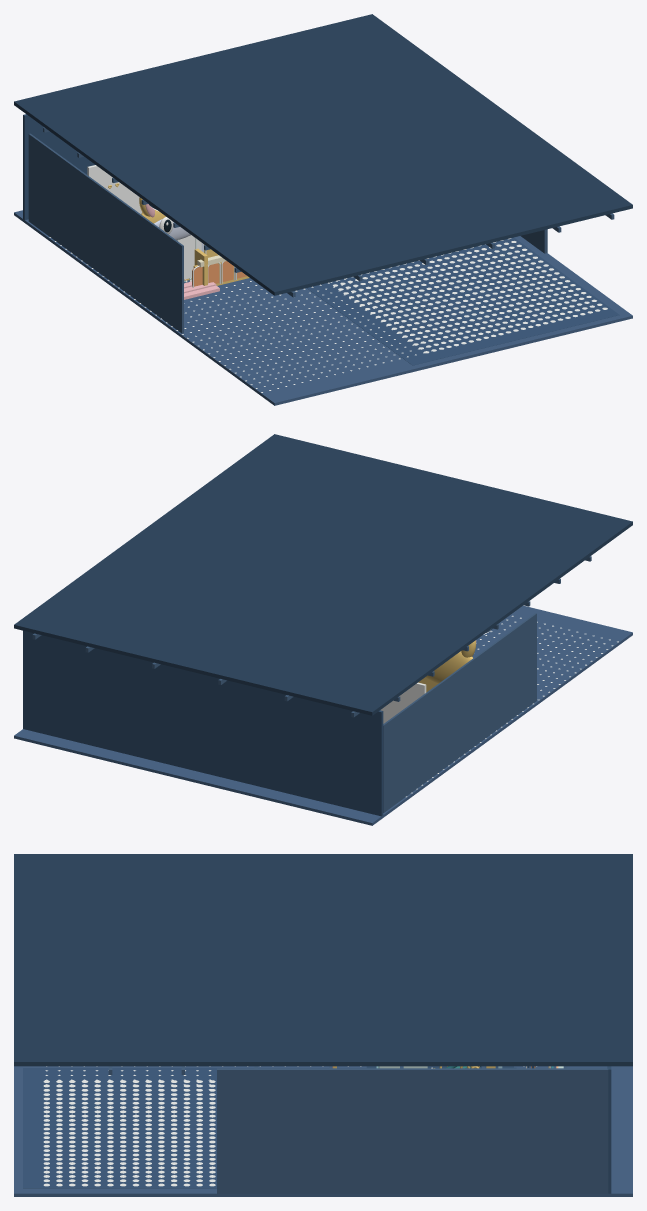
The model's file is playground.glb.
3 renders of one model, top to bottom at view 1: azimuth 30°, elevation 25°; view 2: azimuth 150°, elevation 25°; view 3: azimuth 270°, elevation 25°, orthographic. The views are drawn at different scales.
Visible parts, largest first — view 1: Ceiling deep industrial blue, Continuous matte indigo playground floor, Right flooring different blue zone, Left wall pale blue, Right carpet — 700 individually modeled circles, Back wall muted blue, Left carpet — 652 actual diamond faces, Ivory wall of rabbit play area; view 2: Ceiling deep industrial blue, Back wall muted blue, Left wall pale blue, Continuous matte indigo playground floor, Ivory wall of rabbit play area, Rabbit warm yellow head; view 3: Ceiling deep industrial blue, Far right wall, Right flooring different blue zone, Continuous matte indigo playground floor, Right carpet — 700 individually modeled circles, Back wall muted blue.
Part boxes in pixels (x1,y1,x2,y2): Ceiling deep industrial blue: (14, 14, 632, 295); Continuous matte indigo playground floor: (14, 210, 632, 405); Right flooring different blue zone: (307, 237, 619, 365); Left wall pale blue: (28, 133, 183, 333); Right carpet — 700 individually modeled circles: (329, 238, 607, 353); Back wall muted blue: (23, 114, 95, 219); Left carpet — 652 actual diamond faces: (49, 237, 431, 392); Ivory wall of rabbit play area: (87, 165, 142, 213); Ceiling deep industrial blue: (14, 434, 632, 715); Back wall muted blue: (23, 630, 383, 816); Left wall pale blue: (383, 613, 536, 812); Continuous matte indigo playground floor: (14, 605, 632, 825); Ivory wall of rabbit play area: (380, 682, 426, 723); Rabbit warm yellow head: (425, 651, 472, 683); Ceiling deep industrial blue: (14, 854, 632, 1066); Far right wall: (217, 1068, 608, 1193); Right flooring different blue zone: (23, 1068, 366, 1188); Continuous matte indigo playground floor: (14, 1066, 632, 1196); Right carpet — 700 individually modeled circles: (43, 1080, 215, 1186); Back wall muted blue: (607, 1066, 611, 1193).
Size of the model in its own units: 27.1 by 8.18 by 34.
